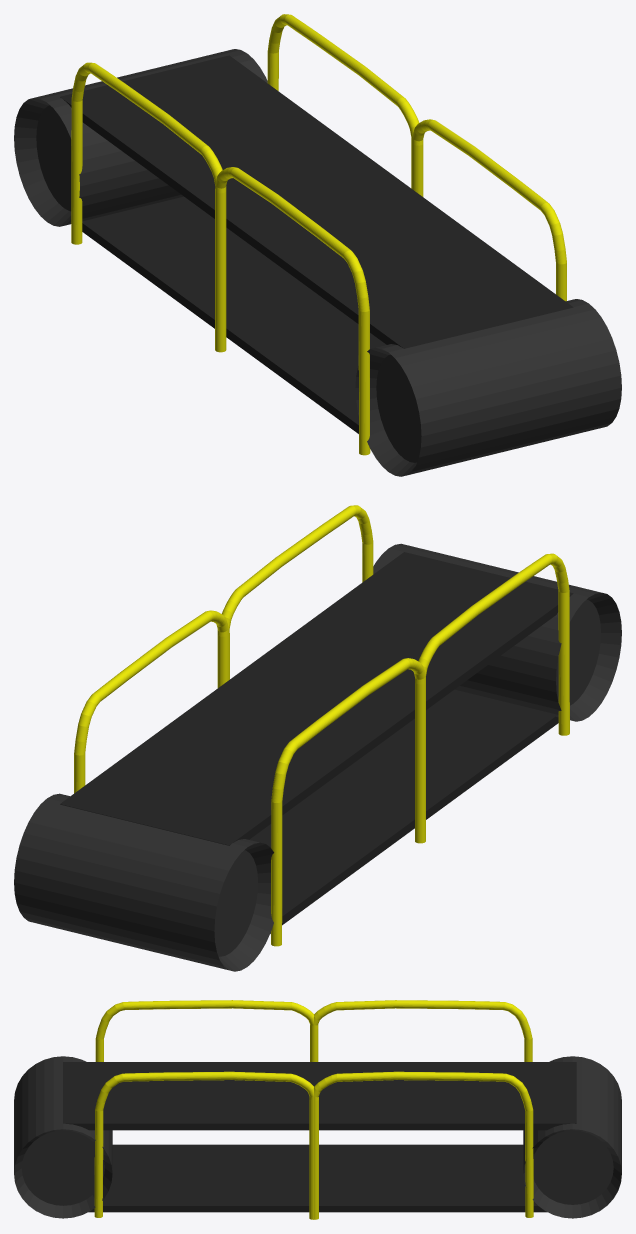
Rendered from conveyor.fbx.
3 views of the same model, one above another, from view 1: azimuth 30°, elevation 25°; view 2: azimuth 150°, elevation 25°; view 3: azimuth 270°, elevation 25° (orthographic). The views are drawn at different scales.
Visible parts, largest first — view 1: Cylinder; view 2: Cylinder; view 3: Cylinder.
Boxes of the visible parts, <box> form: Cylinder: <box>14,14,621,476</box>; Cylinder: <box>14,505,621,971</box>; Cylinder: <box>14,1000,621,1219</box>.
Bounding box in the file's own units: 150 × 136 × 512.
